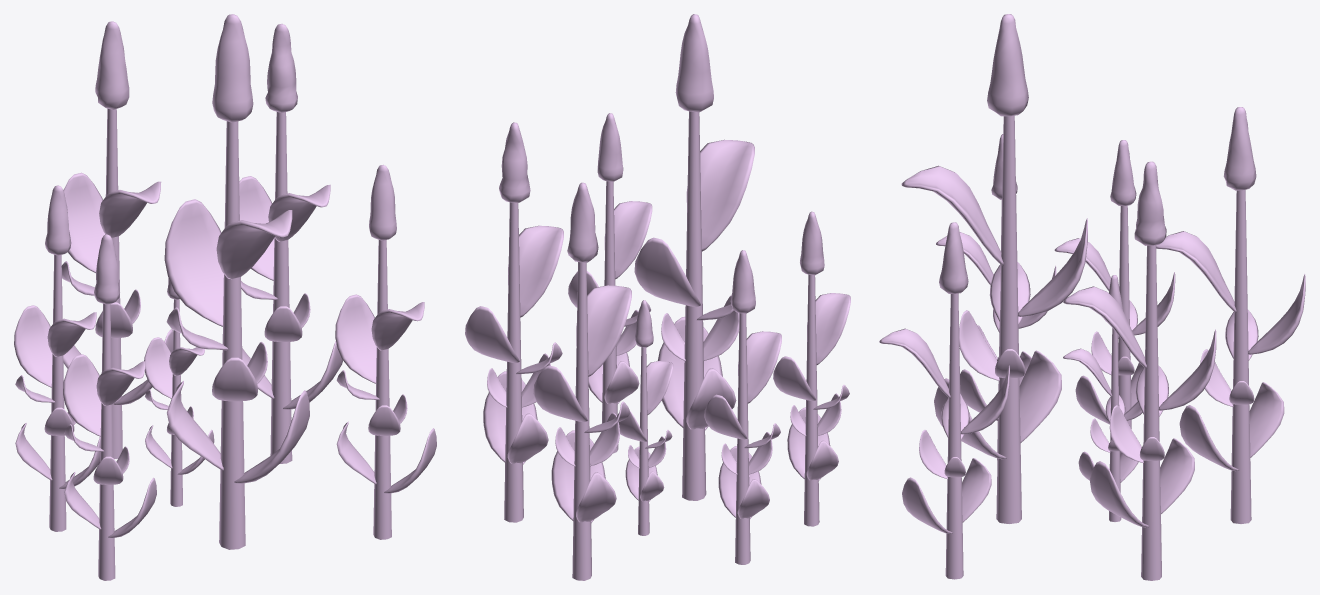
Rendered from flower3.fbx.
3 views of the same model, side by side, from view 1: azimuth 30°, elevation 25°; view 2: azimuth 150°, elevation 25°; view 3: azimuth 270°, elevation 25° (orthographic). The views are drawn at different scales.
Visible parts, largest first — view 1: fleur_3.001; view 2: fleur_3.001; view 3: fleur_3.001.
Boxes of the visible parts, <box> form: fleur_3.001: <box>14,14,436,580</box>; fleur_3.001: <box>465,14,850,580</box>; fleur_3.001: <box>879,14,1305,580</box>.
Bounding box in the file's own units: 45.39 × 68.61 × 52.42.
